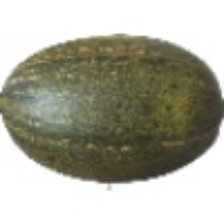honeydew: (37, 6, 221, 175)
